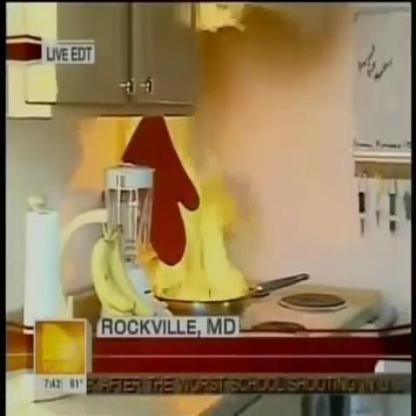fire: (126, 116, 252, 300), (185, 0, 248, 35)
